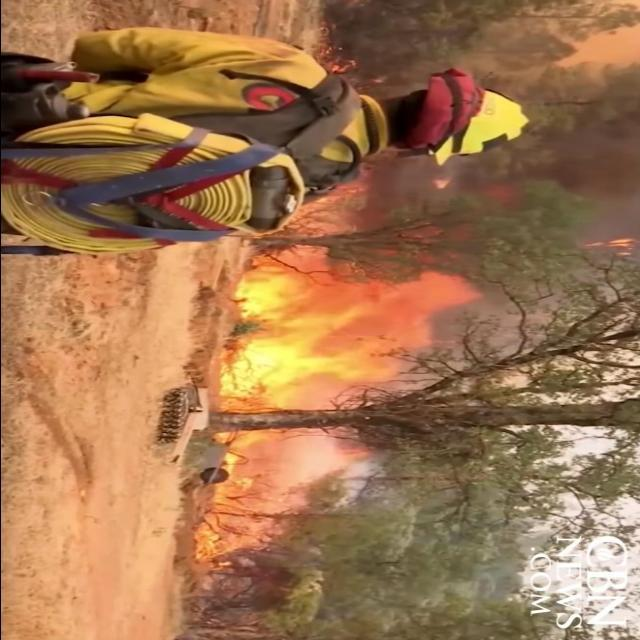Fire: (194, 251, 492, 413), (181, 430, 295, 574)
